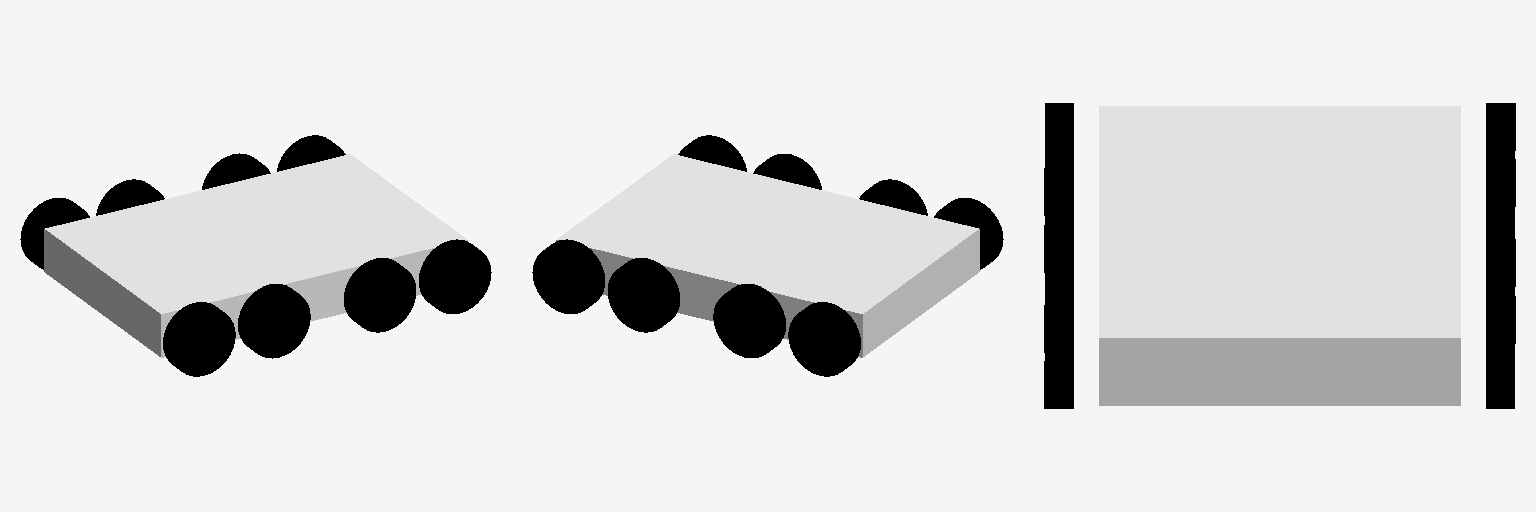
The robot description file, URDF, robot "wheeltec_robot":
<?xml version="1.0" ?>
<robot name="wheeltec_robot">

    <link name="base_link">
        <visual>
            <origin xyz=" 0 0 0.076" rpy="0 0 0" />
            <geometry>
                <box size="0.735 0.487 0.100"/>
            </geometry>
            <material name="white">
                <color rgba="1 1 1 1"/>
            </material>
        </visual>
    </link>   

      <joint name="left_front_joint_1" type="continuous">
        <origin xyz="0.307 0.296 0.076" rpy="1.57 0 0"/>
        <parent link="base_link"/>
        <child link="left_front_link_1"/>
        <axis xyz="0 1 0"/>
    </joint>
    <link name="left_front_link_1">
        <visual>
            <origin xyz="0 0 0" rpy="0 0 0" />
            <geometry>
                <cylinder radius="0.076" length = "0.04"/>
            </geometry>
            <material name="black">
                <color rgba="0 0 0 1"/>
            </material>
        </visual>
    </link>

    <joint name="right_front_joint_1" type="continuous">
        <origin xyz="0.307 -0.296 0.076" rpy="1.57 0 0"/>
        <parent link="base_link"/>
        <child link="right_front_link_1"/>
        <axis xyz="0 1 0"/>
    </joint>
    <link name="right_front_link_1">
        <visual>
            <origin xyz="0 0 0" rpy="0 0 0" />
            <geometry>
                <cylinder radius="0.076" length = "0.04"/>
            </geometry>
            <material name="black">
                <color rgba="0 0 0 1"/>
            </material>
        </visual>
    </link>

    <joint name="left_front_joint_2" type="continuous">
        <origin xyz="0.127 0.296 0.076" rpy="1.57 0 0"/>
        <parent link="base_link"/>
        <child link="left_front_link_2"/>
        <axis xyz="0 1 0"/>
    </joint>
    <link name="left_front_link_2">
        <visual>
            <origin xyz="0 0 0" rpy="0 0 0" />
            <geometry>
                <cylinder radius="0.076" length = "0.04"/>
            </geometry>
            <material name="black">
                <color rgba="0 0 0 1"/>
            </material>
        </visual>
    </link>

    <joint name="right_front_joint_2" type="continuous">
        <origin xyz="0.127 -0.296 0.076" rpy="1.57 0 0"/>
        <parent link="base_link"/>
        <child link="right_front_link_2"/>
        <axis xyz="0 1 0"/>
    </joint>
    <link name="right_front_link_2">
        <visual>
            <origin xyz="0 0 0" rpy="0 0 0" />
            <geometry>
                <cylinder radius="0.076" length = "0.04"/>
            </geometry>
            <material name="black">
                <color rgba="0 0 0 1"/>
            </material>
        </visual>
    </link>

    <joint name="left_wheel_joint_3" type="continuous">
        <origin xyz="-0.127 0.296 0.076" rpy="1.57 0 0"/>
        <parent link="base_link"/>
        <child link="left_wheel_link_3"/>
        <axis xyz="0 1 0"/>
    </joint>
    <link name="left_wheel_link_3">
        <visual>
            <origin xyz="0 0 0" rpy="0 0 0" />
            <geometry>
                <cylinder radius="0.076" length = "0.04"/>
            </geometry>
            <material name="black">
                <color rgba="0 0 0 1"/>
            </material>
        </visual>
    </link>

    <joint name="right_wheel_joint_3" type="continuous">
        <origin xyz="-0.127 -0.296 0.076" rpy="1.57 0 0"/>
        <parent link="base_link"/>
        <child link="right_wheel_link_3"/>
        <axis xyz="0 1 0"/>
    </joint>
    <link name="right_wheel_link_3">
        <visual>
            <origin xyz="0 0 0" rpy="0 0 0" />
            <geometry>
                <cylinder radius="0.076" length = "0.04"/>
            </geometry>
            <material name="black">
                <color rgba="0 0 0 1"/>
            </material>
        </visual>
    </link>

   <joint name="left_wheel_joint_4" type="continuous">
        <origin xyz="-0.307 0.296 0.076" rpy="1.57 0 0"/>
        <parent link="base_link"/>
        <child link="left_wheel_link_4"/>
        <axis xyz="0 1 0"/>
    </joint>
    <link name="left_wheel_link_4">
        <visual>
            <origin xyz="0 0 0" rpy="0 0 0" />
            <geometry>
                <cylinder radius="0.076" length = "0.04"/>
            </geometry>
            <material name="black">
                <color rgba="0 0 0 1"/>
            </material>
        </visual>
    </link>

    <joint name="right_wheel_joint_4" type="continuous">
        <origin xyz="-0.307 -0.296 0.076" rpy="1.57 0 0"/>
        <parent link="base_link"/>
        <child link="right_wheel_link_4"/>
        <axis xyz="0 1 0"/>
    </joint>
    <link name="right_wheel_link_4">
        <visual>
            <origin xyz="0 0 0" rpy="0 0 0" />
            <geometry>
                <cylinder radius="0.076" length = "0.04"/>
            </geometry>
            <material name="black">
                <color rgba="0 0 0 1"/>
            </material>
        </visual>
    </link>

</robot>

--- Facts derived from the render (not from the file) ---
Views: 3 orthographic renders of the robot side by side, from view 1: azimuth 30°, elevation 25°; view 2: azimuth 150°, elevation 25°; view 3: azimuth 270°, elevation 25°.
Robot: wheeltec_robot — 9 links, 8 joints (8 continuous); root link base_link; default pose: all joints at 0.
Visible links, largest first — view 1: base_link, right_wheel_link_4, right_wheel_link_3, right_front_link_2, right_front_link_1, left_wheel_link_4, left_wheel_link_3, left_front_link_1, left_front_link_2; view 2: base_link, left_wheel_link_4, left_wheel_link_3, left_front_link_2, left_front_link_1, right_wheel_link_4, right_wheel_link_3, right_front_link_1, right_front_link_2; view 3: base_link, left_front_link_1, right_front_link_1, left_wheel_link_3, right_wheel_link_3, left_front_link_2, right_front_link_2, left_wheel_link_4, right_wheel_link_4.
Boxes of the visible links, x1,y1,x2,y2 form: base_link: [44, 154, 467, 357]; right_wheel_link_4: [163, 302, 235, 376]; right_wheel_link_3: [238, 284, 310, 358]; right_front_link_2: [344, 258, 415, 332]; right_front_link_1: [419, 239, 491, 313]; left_wheel_link_4: [20, 198, 89, 269]; left_wheel_link_3: [96, 179, 164, 215]; left_front_link_1: [277, 135, 345, 171]; left_front_link_2: [202, 153, 270, 189]; base_link: [556, 154, 979, 357]; left_wheel_link_4: [788, 302, 860, 376]; left_wheel_link_3: [713, 284, 785, 357]; left_front_link_2: [608, 258, 679, 332]; left_front_link_1: [532, 239, 604, 313]; right_wheel_link_4: [934, 198, 1003, 269]; right_wheel_link_3: [859, 179, 927, 215]; right_front_link_1: [678, 135, 746, 171]; right_front_link_2: [753, 154, 821, 189]; base_link: [1099, 106, 1460, 405]; left_front_link_1: [1486, 296, 1515, 408]; right_front_link_1: [1044, 296, 1073, 408]; left_wheel_link_3: [1486, 159, 1515, 238]; right_wheel_link_3: [1044, 159, 1073, 272]; left_front_link_2: [1486, 239, 1515, 295]; right_front_link_2: [1044, 239, 1073, 352]; left_wheel_link_4: [1486, 103, 1515, 158]; right_wheel_link_4: [1044, 103, 1073, 215].
Size in the robot's own frame: 0.766 by 0.6321 by 0.152 metres.
Geometry: primitives only (box / cylinder / sphere), no mesh files.